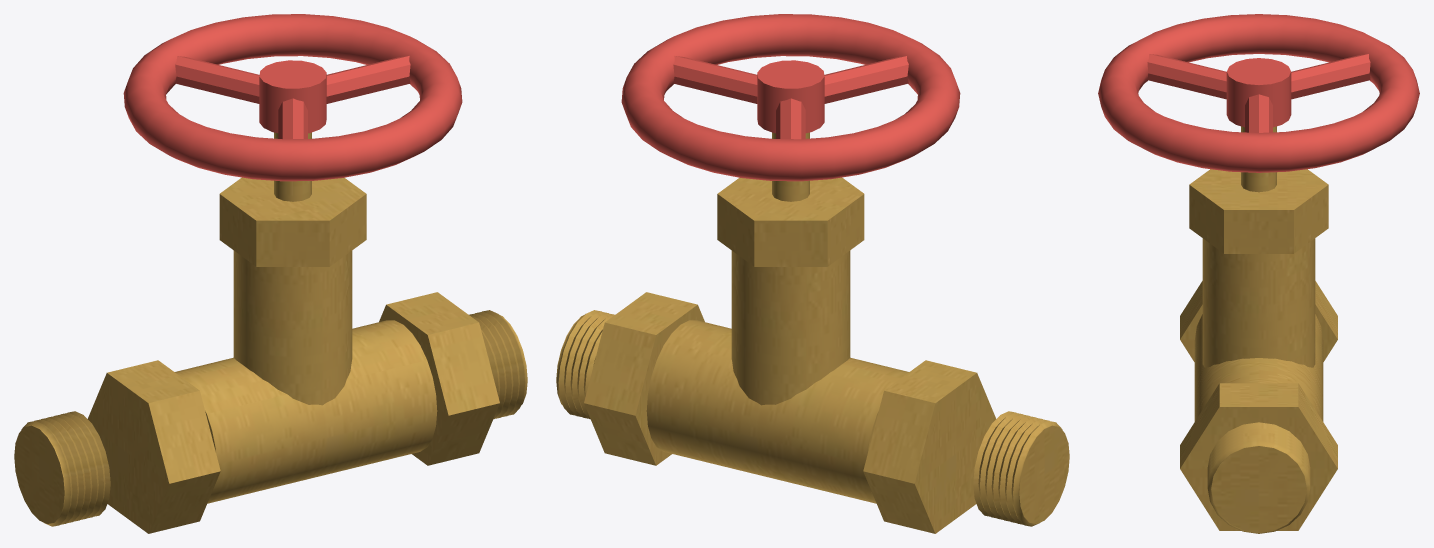
Rendered from HID-REG-001.glb.
3 renders of one model, left to right at view 1: azimuth 30°, elevation 25°; view 2: azimuth 150°, elevation 25°; view 3: azimuth 270°, elevation 25°, orthographic. The views are drawn at different scales.
Visible parts, largest first — view 1: HID-REG-001_volante, HID-REG-001_corpo, HID-REG-001_sext1, HID-REG-001_castelo, HID-REG-001_porca, HID-REG-001_sext2, HID-REG-001_r1, HID-REG-001_cubo, HID-REG-001_r2, HID-REG-001_raio0, HID-REG-001_raio1, HID-REG-001_raio2 (+1 smaller); view 2: HID-REG-001_volante, HID-REG-001_corpo, HID-REG-001_sext1, HID-REG-001_castelo, HID-REG-001_porca, HID-REG-001_sext2, HID-REG-001_r1, HID-REG-001_cubo, HID-REG-001_r2, HID-REG-001_raio0, HID-REG-001_raio2, HID-REG-001_raio1 (+1 smaller); view 3: HID-REG-001_volante, HID-REG-001_castelo, HID-REG-001_porca, HID-REG-001_r2, HID-REG-001_sext2, HID-REG-001_corpo, HID-REG-001_cubo, HID-REG-001_raio1, HID-REG-001_raio2, HID-REG-001_sext1, HID-REG-001_raio0, HID-REG-001_haste.
Part boxes in pixels (<box>): HID-REG-001_volante: <box>123,14,462,181</box>; HID-REG-001_corpo: <box>175,320,437,503</box>; HID-REG-001_sext1: <box>88,360,220,533</box>; HID-REG-001_castelo: <box>233,250,352,405</box>; HID-REG-001_porca: <box>219,177,366,266</box>; HID-REG-001_sext2: <box>379,292,499,465</box>; HID-REG-001_r1: <box>14,411,110,526</box>; HID-REG-001_cubo: <box>259,60,326,133</box>; HID-REG-001_r2: <box>469,310,527,419</box>; HID-REG-001_raio0: <box>326,56,410,103</box>; HID-REG-001_raio1: <box>175,56,259,103</box>; HID-REG-001_raio2: <box>278,98,307,139</box>; HID-REG-001_volante: <box>621,14,960,181</box>; HID-REG-001_corpo: <box>646,320,908,503</box>; HID-REG-001_sext1: <box>863,360,995,533</box>; HID-REG-001_castelo: <box>731,250,850,405</box>; HID-REG-001_porca: <box>717,177,864,266</box>; HID-REG-001_sext2: <box>584,292,704,465</box>; HID-REG-001_r1: <box>973,411,1069,526</box>; HID-REG-001_cubo: <box>757,60,824,133</box>; HID-REG-001_r2: <box>556,310,614,419</box>; HID-REG-001_raio0: <box>673,56,757,103</box>; HID-REG-001_raio2: <box>824,56,908,103</box>; HID-REG-001_raio1: <box>776,98,805,139</box>; HID-REG-001_volante: <box>1098,14,1419,172</box>; HID-REG-001_castelo: <box>1202,238,1315,367</box>; HID-REG-001_porca: <box>1189,169,1328,253</box>; HID-REG-001_r2: <box>1207,422,1310,533</box>; HID-REG-001_sext2: <box>1180,383,1337,530</box>; HID-REG-001_corpo: <box>1194,314,1323,421</box>; HID-REG-001_cubo: <box>1226,58,1291,127</box>; HID-REG-001_raio1: <box>1291,54,1370,99</box>; HID-REG-001_raio2: <box>1147,54,1226,99</box>; HID-REG-001_sext1: <box>1180,281,1337,361</box>; HID-REG-001_raio0: <box>1245,94,1272,132</box>; HID-REG-001_haste: <box>1241,126,1276,192</box>.
Size of the model in its own units: 0.126 by 0.105 by 0.08.
2 materials, 1 textured.
